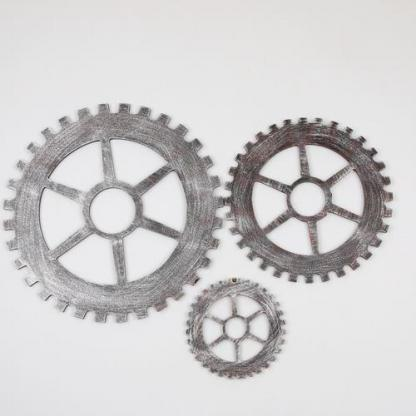FOD: (0, 97, 228, 327), (224, 112, 398, 286), (181, 275, 290, 383)
